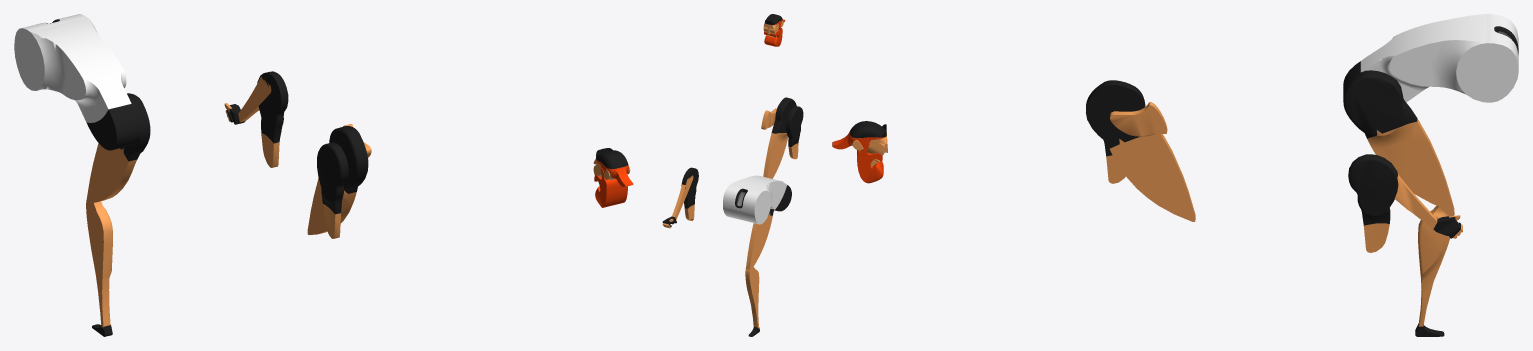
Rendered from Rider1.fbx.
3 views of the same model, side by side, from view 1: azimuth 30°, elevation 25°; view 2: azimuth 150°, elevation 25°; view 3: azimuth 270°, elevation 25° (orthographic). The views are drawn at different scales.
Visible parts, largest first — view 1: torso, upperLeg_R, upperLeg_L, lowerLeg_R, upperArm_L, upperArm_R, head, lowerArm_R; view 2: torso, upperLeg_L, upperLeg_R, upperArm_L, lowerLeg_R, head, upperArm_R, lowerArm_R, neck; view 3: torso, upperLeg_R, upperLeg_L, upperArm_R, head, lowerLeg_R, neck, lowerArm_R.
Boxes of the visible parts, x1,y1,x2,y2 form: torso: (14, 14, 139, 150); upperLeg_R: (86, 93, 150, 202); upperLeg_L: (307, 126, 368, 234); lowerLeg_R: (86, 196, 112, 328); upperArm_L: (317, 142, 348, 238); upperArm_R: (257, 71, 288, 167); head: (593, 148, 633, 207); lowerArm_R: (224, 76, 271, 124); torso: (723, 175, 791, 224); upperLeg_L: (763, 97, 796, 178); upperLeg_R: (745, 209, 773, 270); upperArm_L: (786, 106, 803, 159); lowerLeg_R: (745, 266, 759, 328); head: (763, 14, 785, 46); upperArm_R: (681, 167, 698, 220); lowerArm_R: (662, 175, 693, 228); neck: (761, 108, 776, 129); torso: (1343, 14, 1518, 102); upperLeg_R: (1343, 70, 1452, 211); upperLeg_L: (1086, 80, 1195, 221); upperArm_R: (1348, 154, 1398, 252); head: (832, 121, 887, 183); lowerLeg_R: (1418, 204, 1454, 326); neck: (1110, 102, 1167, 136); lowerArm_R: (1394, 174, 1462, 238).
Size of the model in its own units: 2.97 by 3.12 by 5.87.
